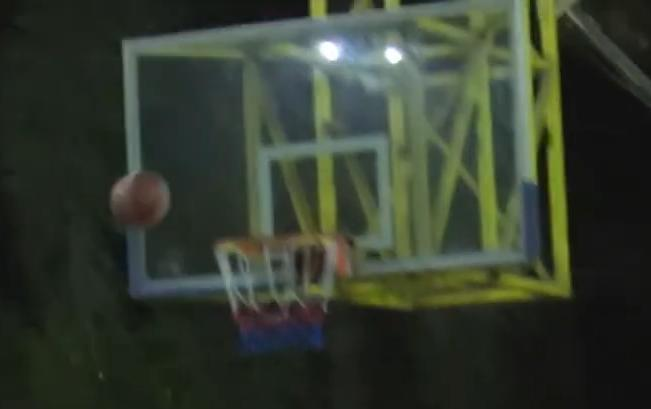ball: (96, 166, 177, 236)
rim: (208, 231, 344, 365)
